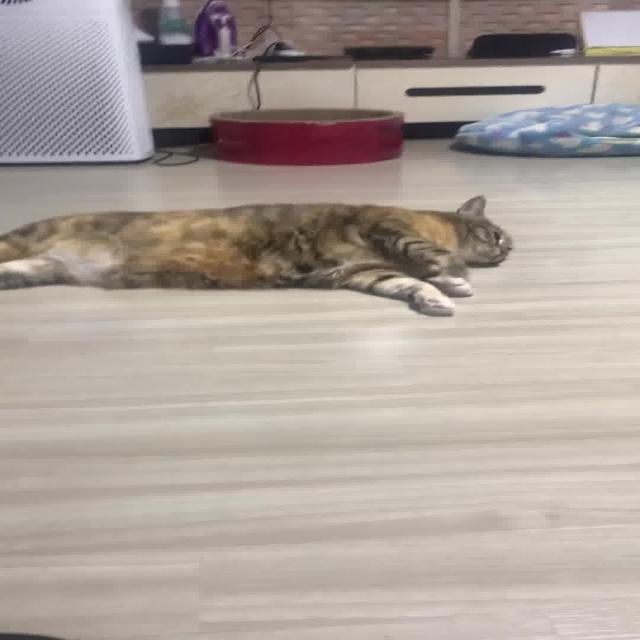cat: (0, 184, 550, 328)
